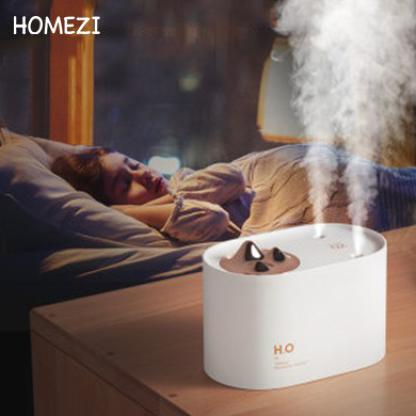person: (48, 148, 177, 224)
smoke: (281, 0, 408, 246)
